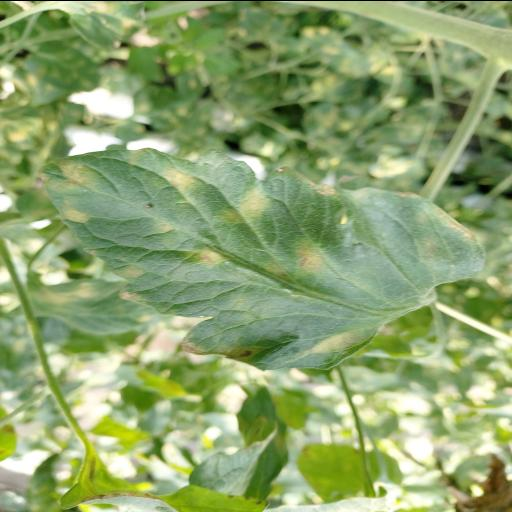Leaf Mold: (37, 146, 485, 370)
